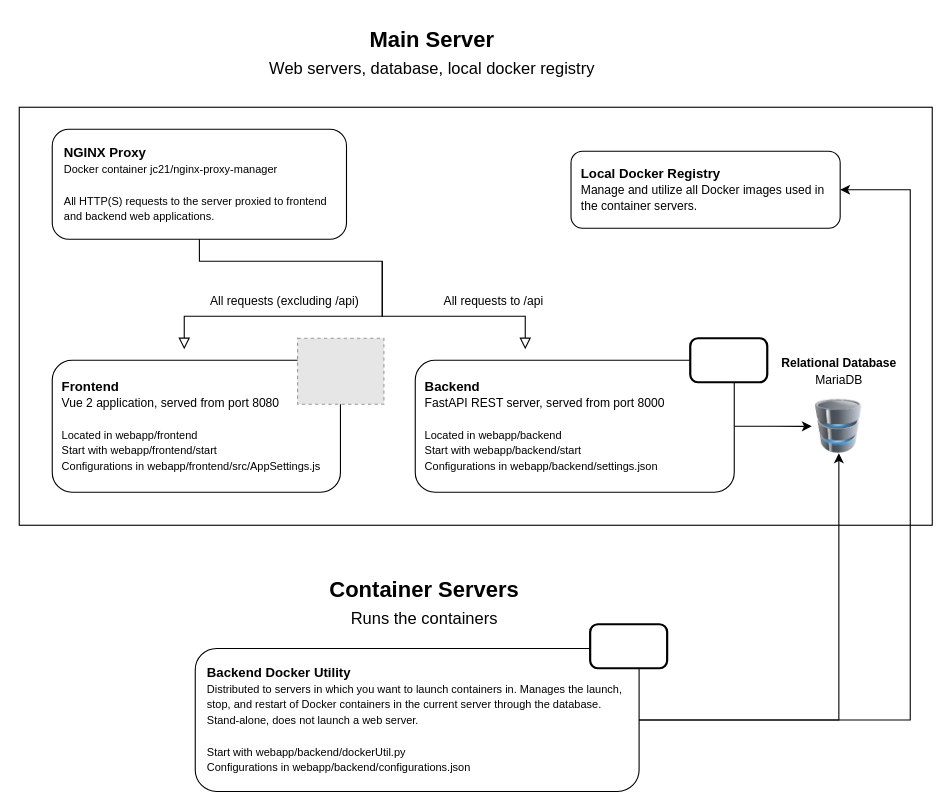
This 952x811 diagram has some shape labels left out. Grey dashed boxes stand in for pictures. Each missing label, with the centre of its shape:
> GET /app/containers { "containers": [ ... ] }: point 728,360
> Launching container ubuntu22fresh... > Stopping container ubuntu22fresh: point 628,646
